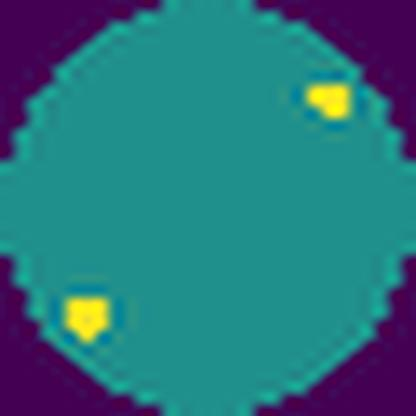Edge-Loc: (57, 293, 118, 348), (299, 80, 356, 126)
